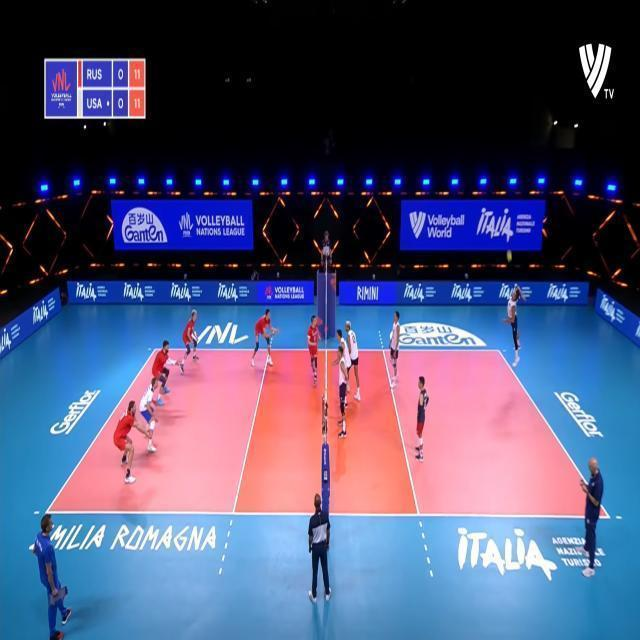volleyball: (506, 252, 512, 261)
